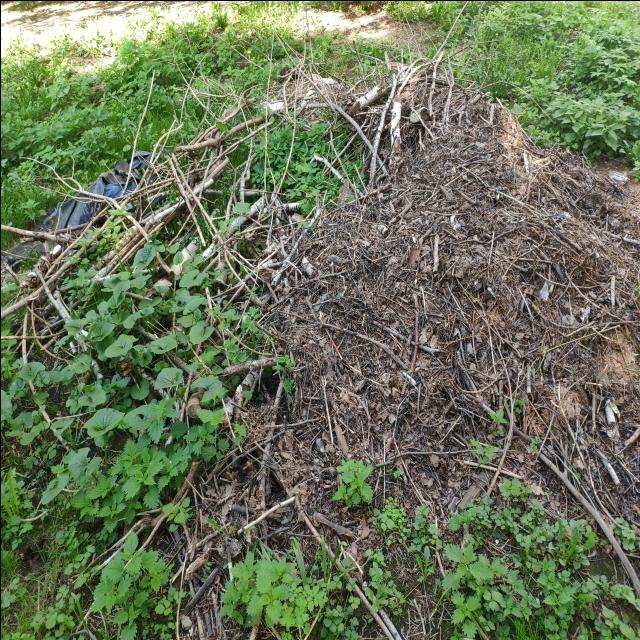lixo domiciliar: (402, 370, 419, 388), (538, 280, 548, 300), (578, 306, 588, 322), (486, 286, 494, 297), (452, 222, 460, 230), (448, 214, 454, 224), (556, 212, 564, 218)
restos de madeira: (6, 190, 161, 314), (528, 406, 640, 554), (124, 160, 233, 302), (92, 464, 204, 588), (304, 497, 399, 640), (200, 99, 276, 215), (413, 1, 482, 117), (518, 298, 636, 357), (449, 284, 523, 376), (314, 72, 378, 166), (2, 451, 77, 522), (232, 414, 316, 466), (348, 60, 415, 122), (487, 81, 556, 136), (369, 68, 398, 191), (165, 361, 211, 432), (434, 456, 530, 490), (156, 460, 206, 524), (136, 125, 180, 197), (258, 22, 274, 218), (207, 92, 264, 138), (219, 252, 272, 301), (45, 182, 135, 208), (450, 162, 510, 200), (235, 495, 292, 535), (362, 334, 416, 376), (290, 310, 365, 340), (221, 530, 241, 638), (397, 446, 503, 464), (182, 566, 216, 618), (0, 218, 68, 243), (80, 406, 126, 440), (312, 508, 356, 536), (330, 414, 354, 464), (548, 224, 584, 256), (230, 355, 275, 378), (594, 448, 620, 486), (602, 227, 640, 247), (621, 422, 640, 448), (523, 158, 533, 204), (407, 242, 420, 272), (300, 255, 316, 278), (526, 152, 552, 166), (590, 380, 596, 430), (431, 236, 439, 272), (595, 369, 609, 389), (608, 275, 614, 308)
